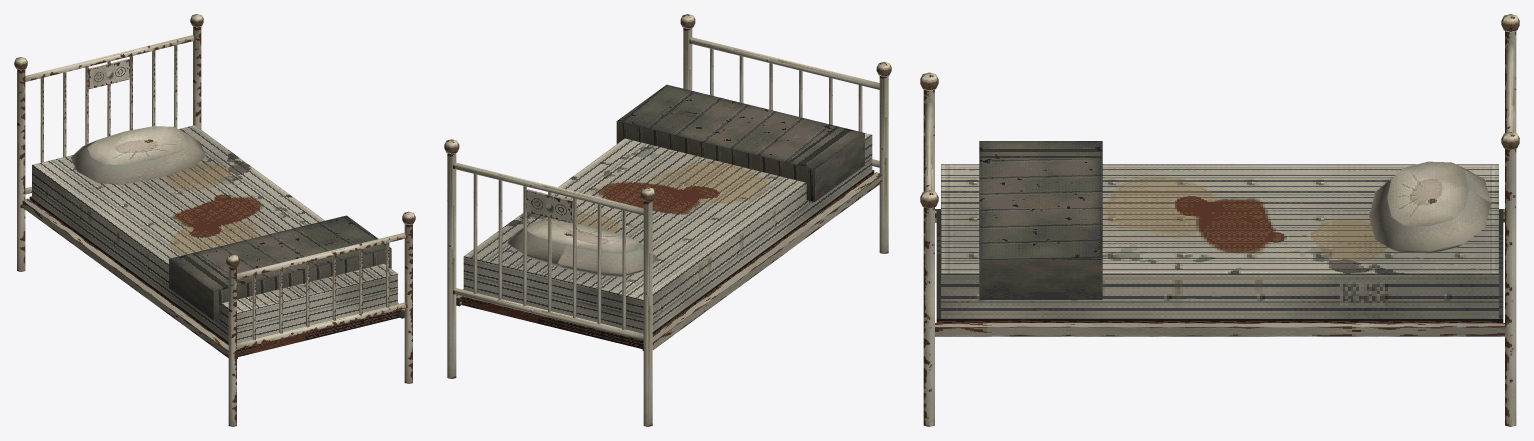
File: bed_single_metal.glb
3 views of the same model, side by side, from view 1: azimuth 30°, elevation 25°; view 2: azimuth 150°, elevation 25°; view 3: azimuth 270°, elevation 25° (orthographic). The views are drawn at different scales.
Visible parts, largest first — view 1: bed_single_metal; view 2: bed_single_metal; view 3: bed_single_metal.
Boxes of the visible parts, x1=… form: bed_single_metal: x1=14, y1=14, x2=415, y2=426; bed_single_metal: x1=444, y1=14, x2=891, y2=426; bed_single_metal: x1=920, y1=14, x2=1519, y2=426.
Size of the model in its own units: 1.02 by 1.1 by 2.04.
1 material, 1 textured.
